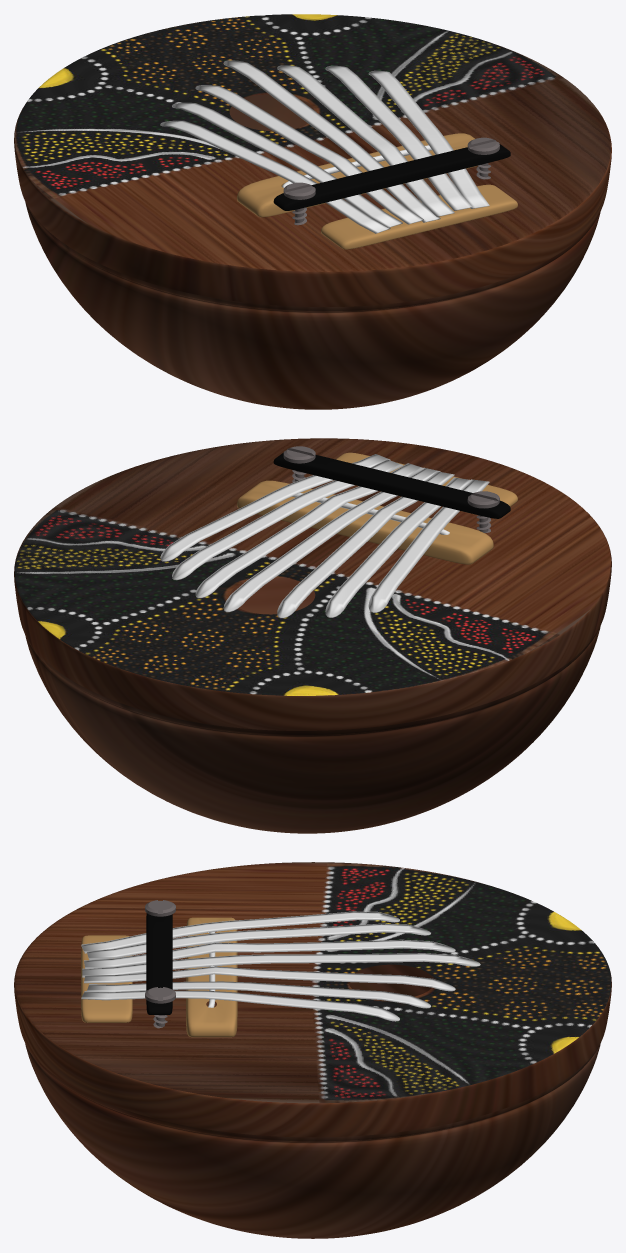
Rendered from karimba.fbx.
3 views of the same model, one above another, from view 1: azimuth 30°, elevation 25°; view 2: azimuth 150°, elevation 25°; view 3: azimuth 270°, elevation 25° (orthographic). The views are drawn at different scales.
Parts seen in each view (by area): view 1: Sphere, Plane.001, Plane.002, Plane.003, Cube.002, Cube.001, Plane, Cube, Цилиндр.002; view 2: Sphere, Plane.001, Plane.002, Plane.003, Cube, Cube.002, Plane, Цилиндр.002, Cube.001; view 3: Sphere, Plane.001, Plane.002, Plane.003, Plane, Cube, Cube.002, Cube.001, Цилиндр.002.
Boxes of the visible parts, left/top/right/bottom form: Sphere: left=14, top=14, right=611, bottom=409; Plane.001: left=195, top=65, right=454, bottom=224; Plane.002: left=172, top=65, right=471, bottom=227; Plane.003: left=160, top=70, right=489, bottom=233; Cube.002: left=273, top=144, right=510, bottom=210; Cube.001: left=321, top=184, right=517, bottom=249; Plane: left=223, top=60, right=440, bottom=222; Cube: left=237, top=133, right=477, bottom=217; Цилиндр.002: left=283, top=137, right=499, bottom=225; Sphere: left=14, top=438, right=611, bottom=833; Plane.001: left=195, top=463, right=454, bottom=618; Plane.002: left=172, top=459, right=472, bottom=617; Plane.003: left=160, top=454, right=489, bottom=612; Cube: left=237, top=480, right=493, bottom=564; Cube.002: left=273, top=452, right=510, bottom=518; Plane: left=223, top=467, right=440, bottom=612; Цилиндр.002: left=283, top=446, right=499, bottom=532; Cube.001: left=336, top=452, right=517, bottom=514; Sphere: left=14, top=862, right=611, bottom=1238; Plane.001: left=84, top=939, right=455, bottom=991; Plane.002: left=86, top=923, right=430, bottom=1008; Plane.003: left=81, top=911, right=399, bottom=1021; Plane: left=82, top=953, right=480, bottom=977; Cube: left=186, top=917, right=237, bottom=1037; Cube.002: left=146, top=913, right=172, bottom=1014; Cube.001: left=81, top=935, right=132, bottom=1022; Цилиндр.002: left=145, top=900, right=175, bottom=1028.
Size of the model in its own units: 29.54 by 14.88 by 30.87.
6 materials, 1 textured.
